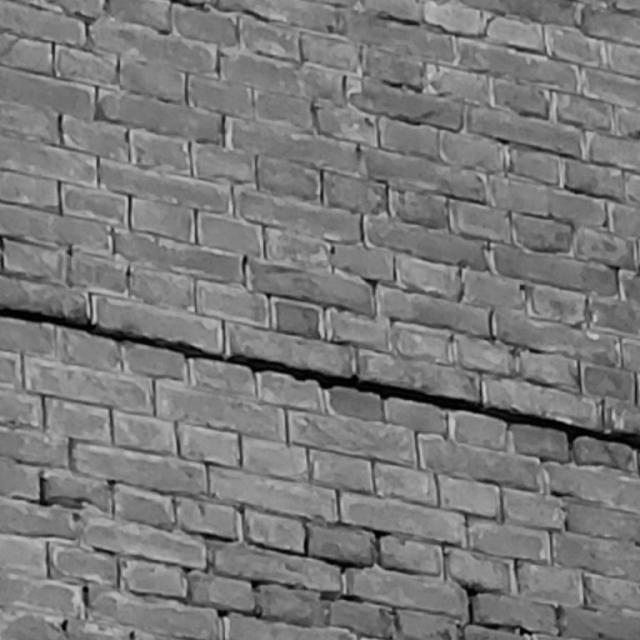crack: (1, 305, 640, 449)
